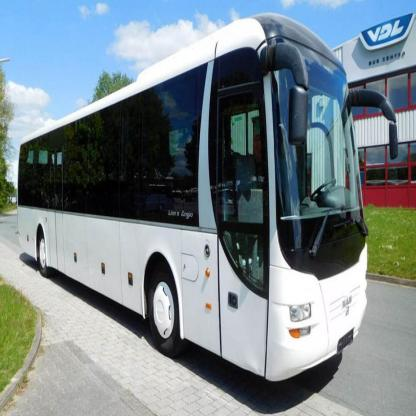Bus: (17, 12, 375, 398)
